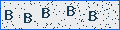B: (88, 10, 97, 21), (67, 6, 75, 16), (42, 8, 50, 18), (24, 13, 32, 23), (5, 10, 13, 20)
